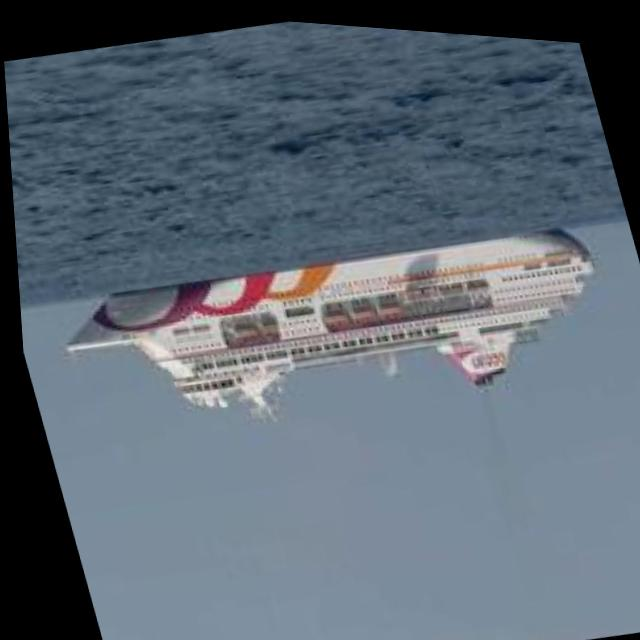ship2: (56, 221, 589, 423)
